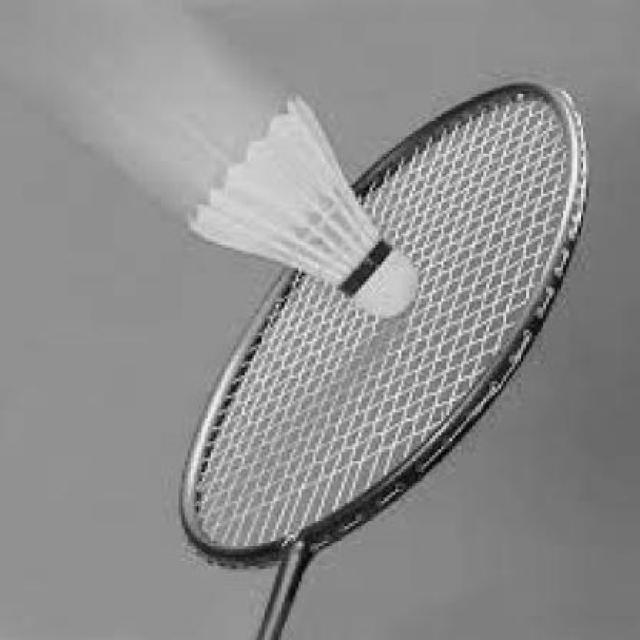Shuttlecock: (180, 91, 418, 320)
